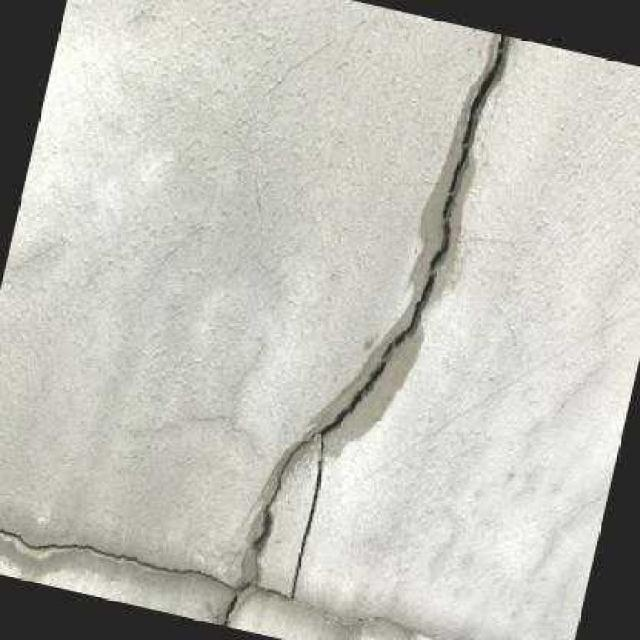D00: (0, 32, 510, 640)
